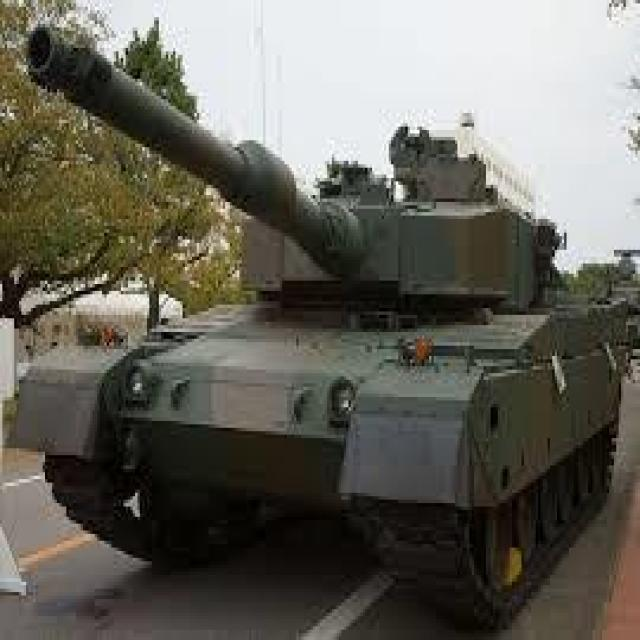Tanks: (10, 12, 564, 614)
